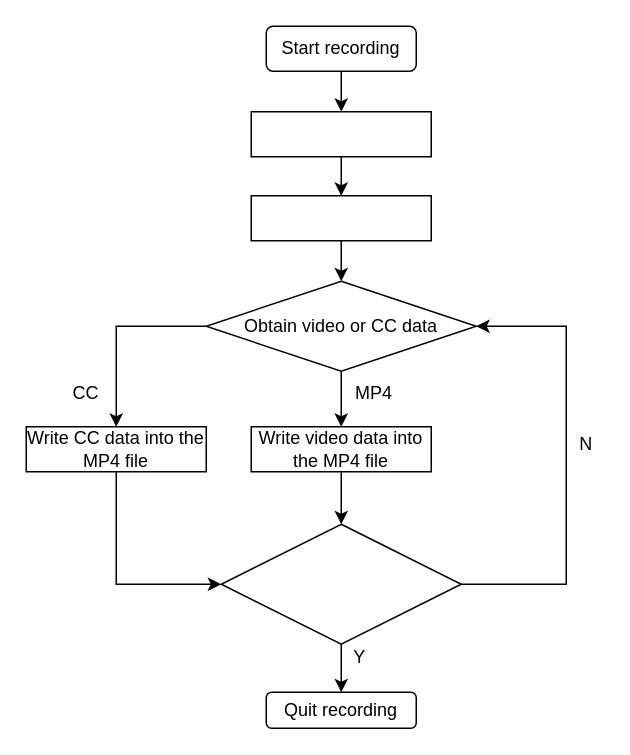
Image size: 630x755. Some labels were removed from this diagram. Here are the shapes that lost their labels. From the top down, the centre of each, then its label:
At (340,133): "Create a video renderer thread".
At (340,217): "Create an MP4 file".
At (340,583): "Manually stop recording or storage full".
